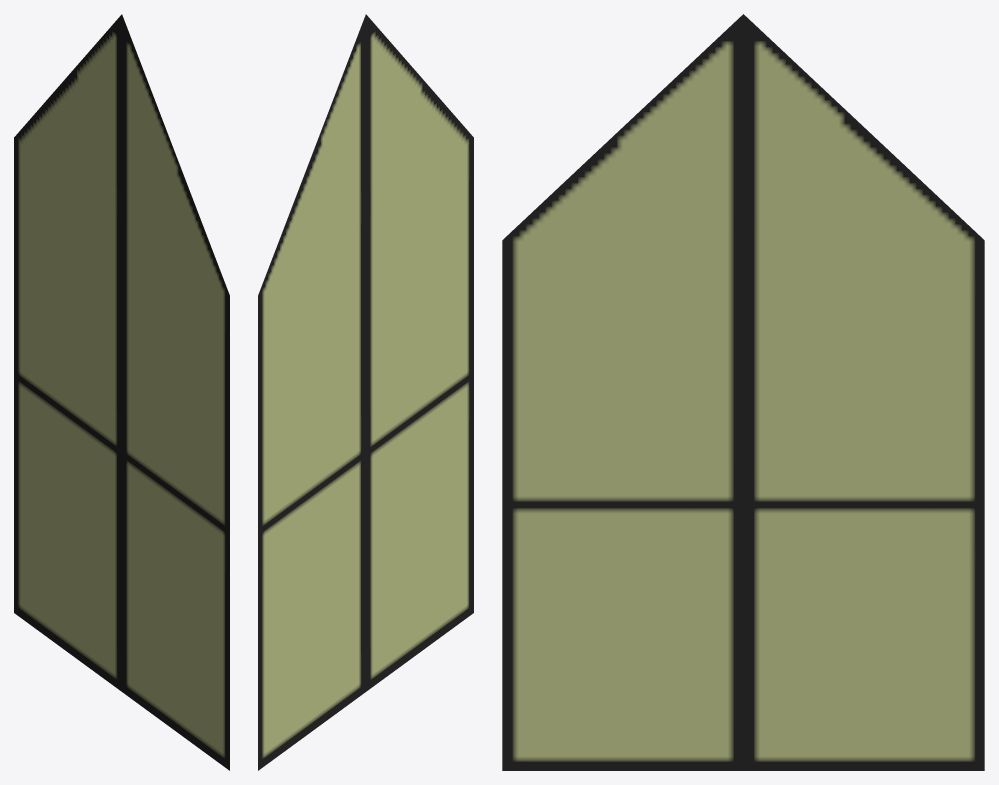
The model's file is Window.fbx.
The picture shows the model from 3 angles, left to right: view 1: azimuth 30°, elevation 25°; view 2: azimuth 150°, elevation 25°; view 3: azimuth 270°, elevation 25°; orthographic projection. The views are drawn at different scales.
Parts seen in each view (by area): view 1: Window; view 2: Window; view 3: Window.
Part boxes in pixels (x1,y1,x2,y2): Window: (14,14,229,770); Window: (258,14,473,770); Window: (502,14,984,770).
Size of the model in its own units: 0.000192 by 1165 by 672.
Materials: 1 (1 with a texture image).
